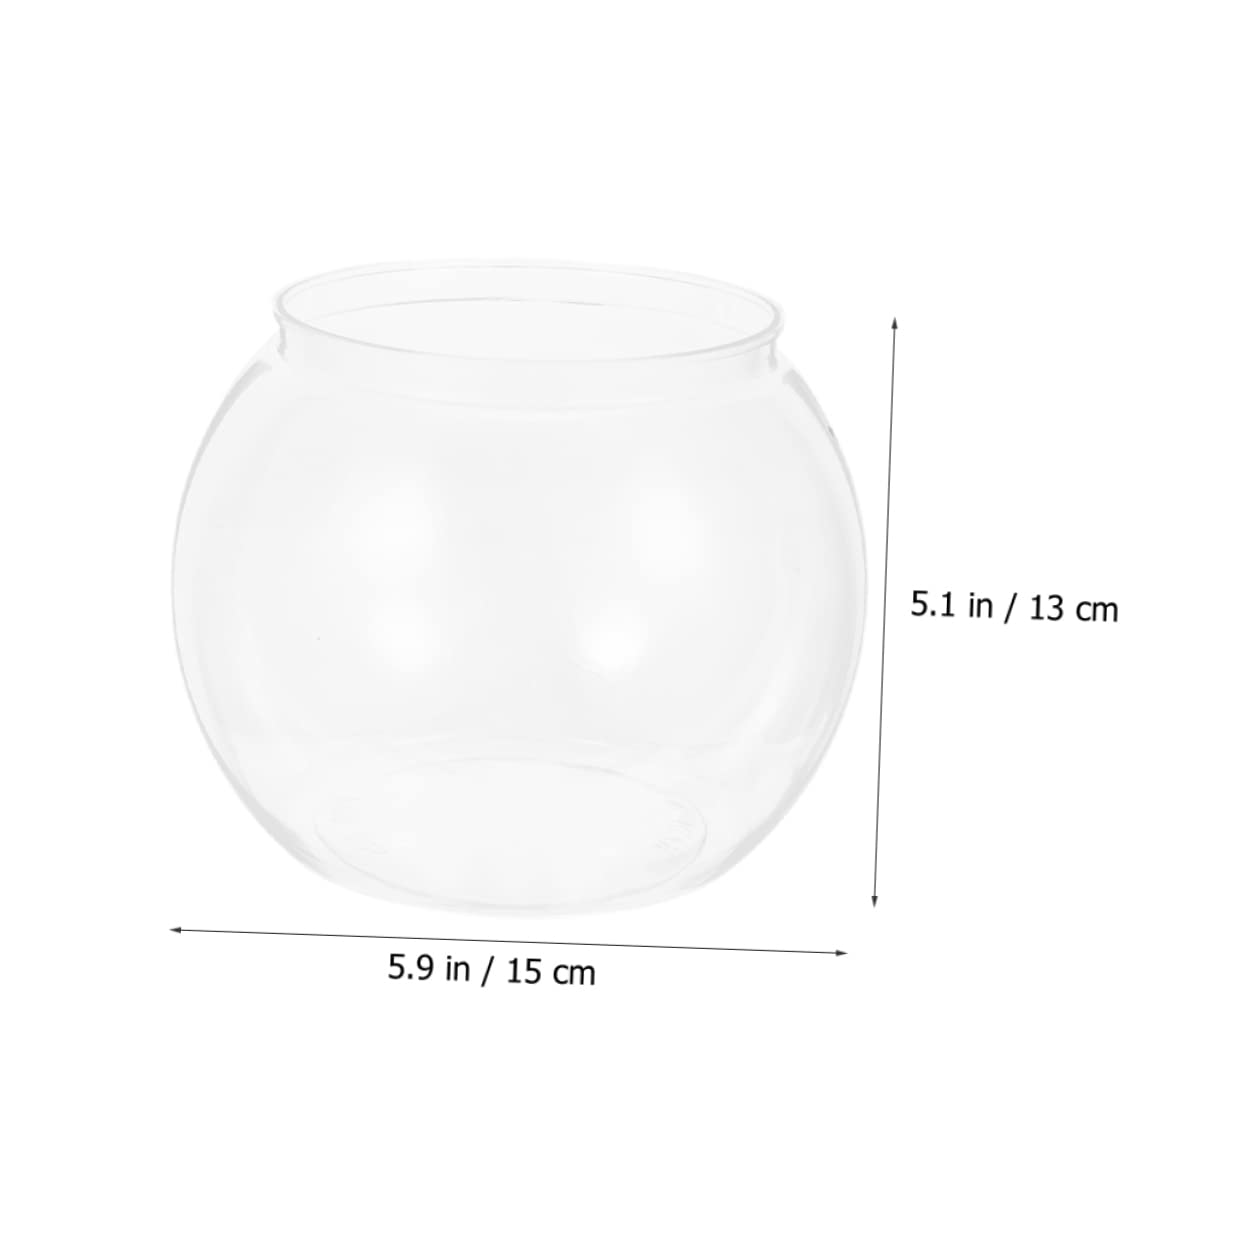13cm: (1031, 594, 1118, 622)
15cm: (508, 958, 594, 985)
5.9: (389, 954, 432, 980)
in/: (447, 955, 494, 987)
